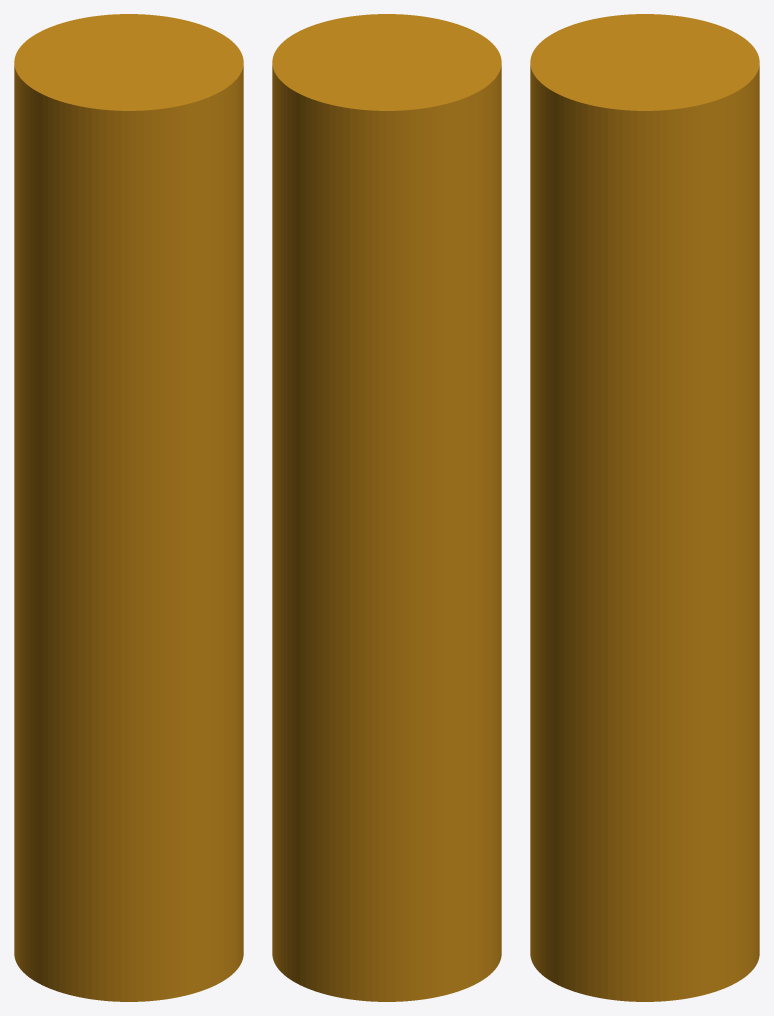
File: gpio_pin_4_0.0243.dae
3 views of the same model, side by side, from view 1: azimuth 30°, elevation 25°; view 2: azimuth 150°, elevation 25°; view 3: azimuth 270°, elevation 25° (orthographic).
Parts seen in each view (by area): view 1: gpio_pin_4_0.0243; view 2: gpio_pin_4_0.0243; view 3: gpio_pin_4_0.0243.
Part boxes in pixels (x1,y1,x2,y2): gpio_pin_4_0.0243: (14,14,243,1001); gpio_pin_4_0.0243: (272,14,501,1001); gpio_pin_4_0.0243: (530,14,759,1001).
Bounding box in the file's own units: 0.0007 × 0.0007 × 0.003.
